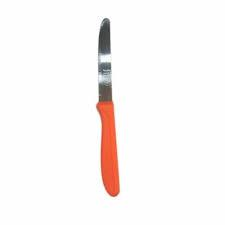Knife: (95, 17, 120, 196)
